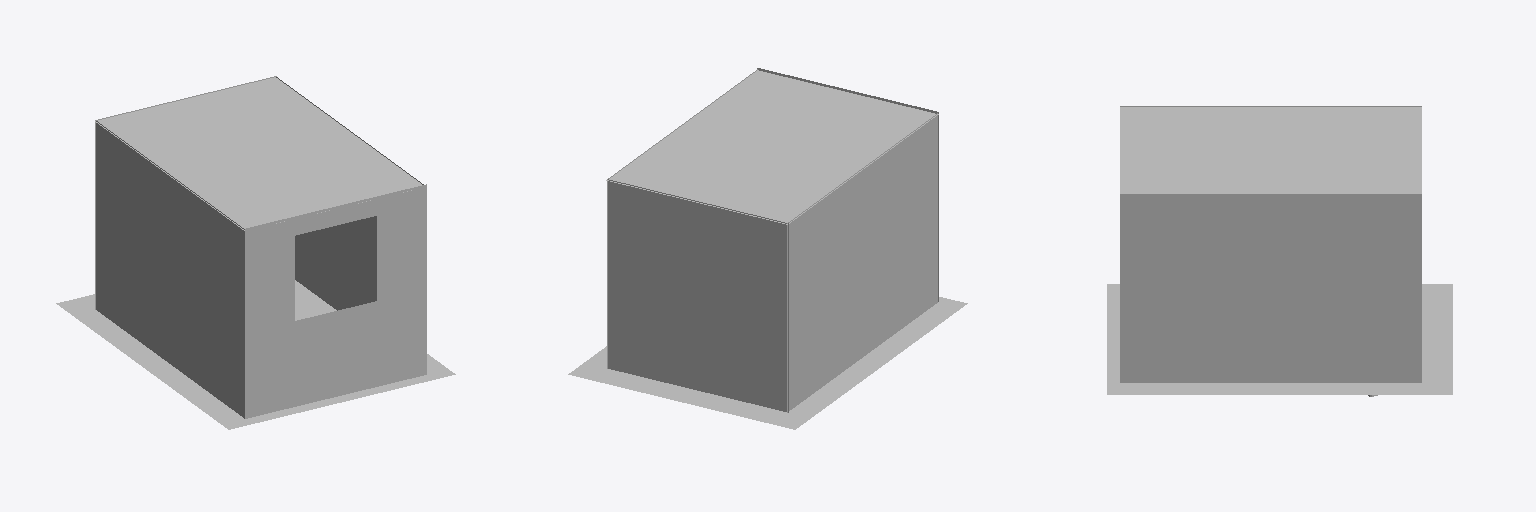
3 views of the same model, side by side, from view 1: azimuth 30°, elevation 25°; view 2: azimuth 150°, elevation 25°; view 3: azimuth 270°, elevation 25° (orthographic).
Parts seen in each view (by area): view 1: LeftWall_Cube.001, BackWall.001_Cube.008, Ceiling_Cube.004, Floor_Plane, RightWall_Cube.002; view 2: BackWall_Cube.003, LeftWall_Cube.001, Ceiling_Cube.004, Floor_Plane, BackWall.001_Cube.008; view 3: RightWall_Cube.002, Ceiling_Cube.004, Floor_Plane.
Boxes of the visible parts, x1,y1,x2,y2 form: LeftWall_Cube.001: [96, 121, 244, 418]; BackWall.001_Cube.008: [245, 184, 426, 418]; Ceiling_Cube.004: [95, 77, 421, 230]; Floor_Plane: [56, 280, 455, 429]; RightWall_Cube.002: [276, 77, 423, 310]; BackWall_Cube.003: [608, 179, 788, 412]; LeftWall_Cube.001: [787, 113, 937, 412]; Ceiling_Cube.004: [606, 70, 938, 224]; Floor_Plane: [568, 297, 967, 429]; BackWall.001_Cube.008: [757, 68, 938, 301]; RightWall_Cube.002: [1120, 194, 1421, 382]; Ceiling_Cube.004: [1120, 107, 1421, 193]; Floor_Plane: [1107, 284, 1452, 394].
Size of the model in its own units: 3.79 by 3.43 by 4.98.